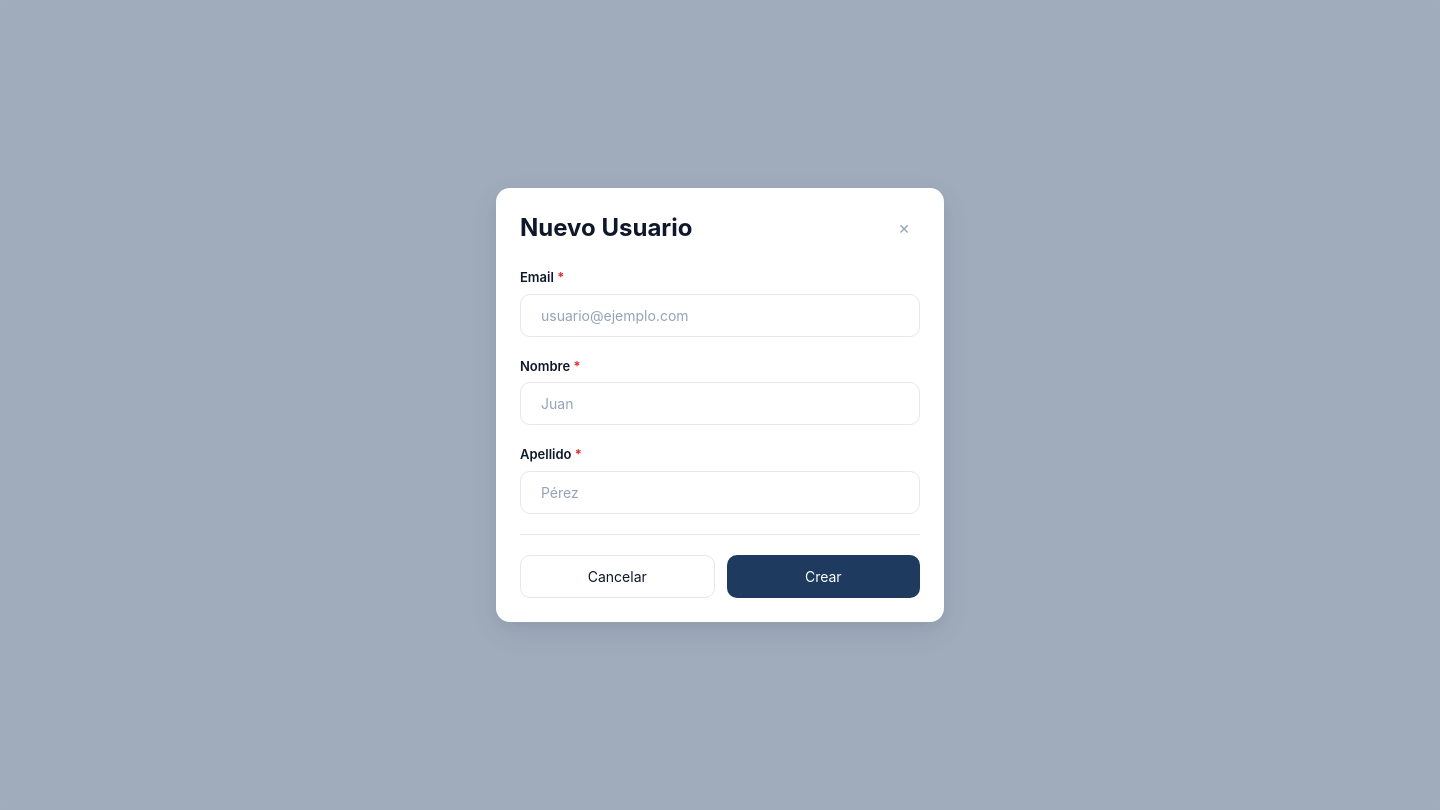
Test: UserForm › shows error when submit fails
Step 1. Type "ana@demo.com" into the field labelled "Email *" → coordinates (720, 315), box [520,294,920,337]
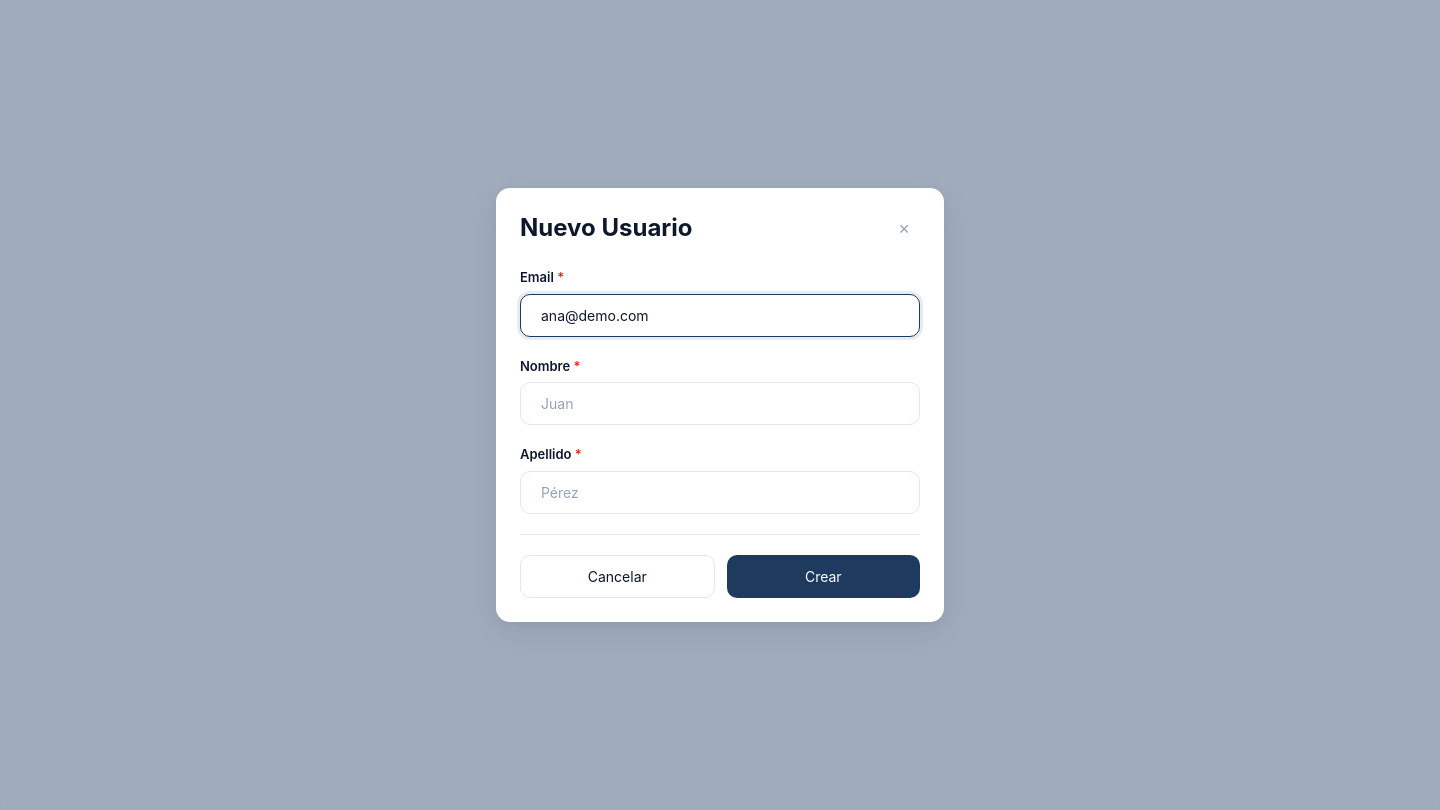
Step 2. Type "Ana" into the field labelled "Nombre *" → coordinates (720, 404), box [520,382,920,425]
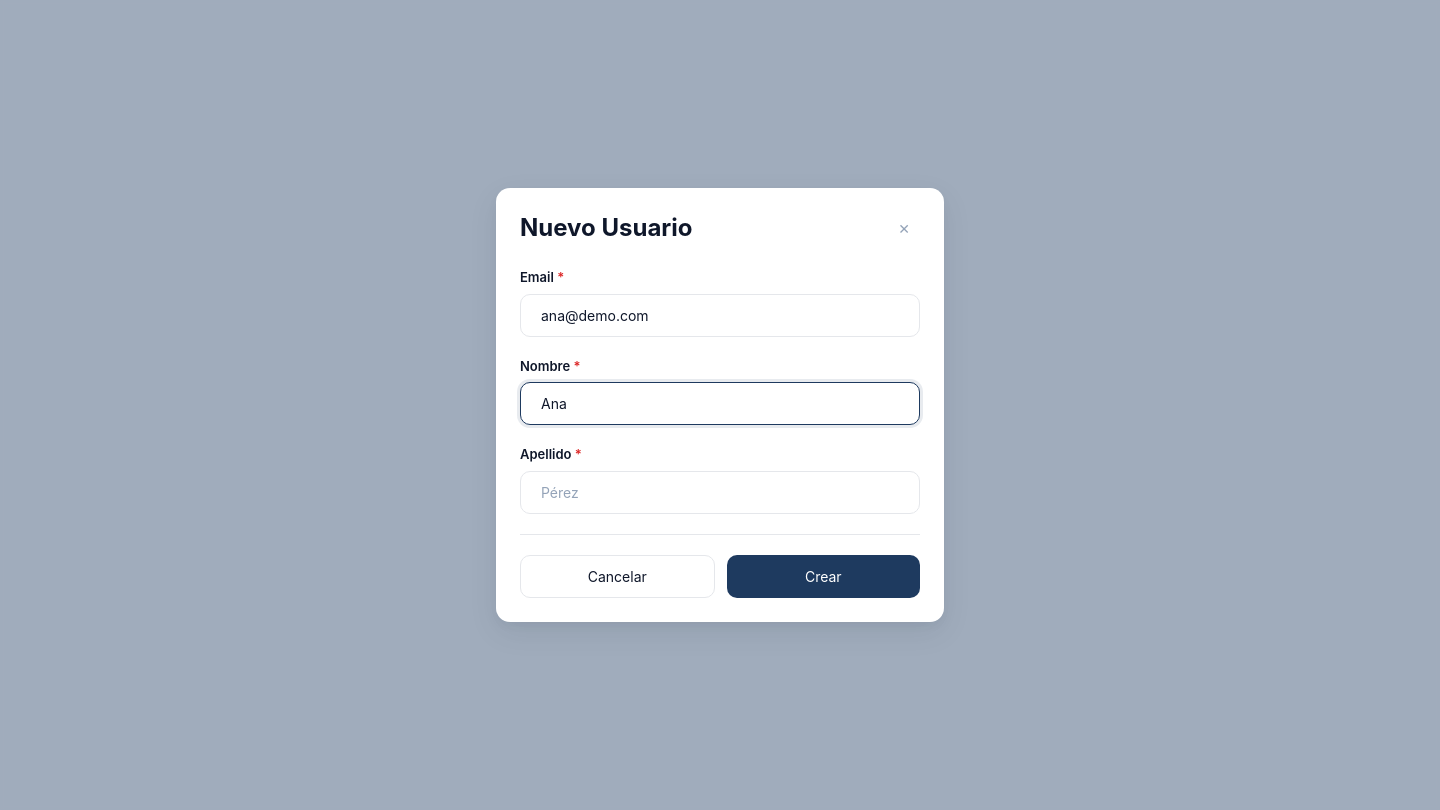
Step 3. Type "López" into the field labelled "Apellido *" → coordinates (720, 492), box [520,471,920,514]
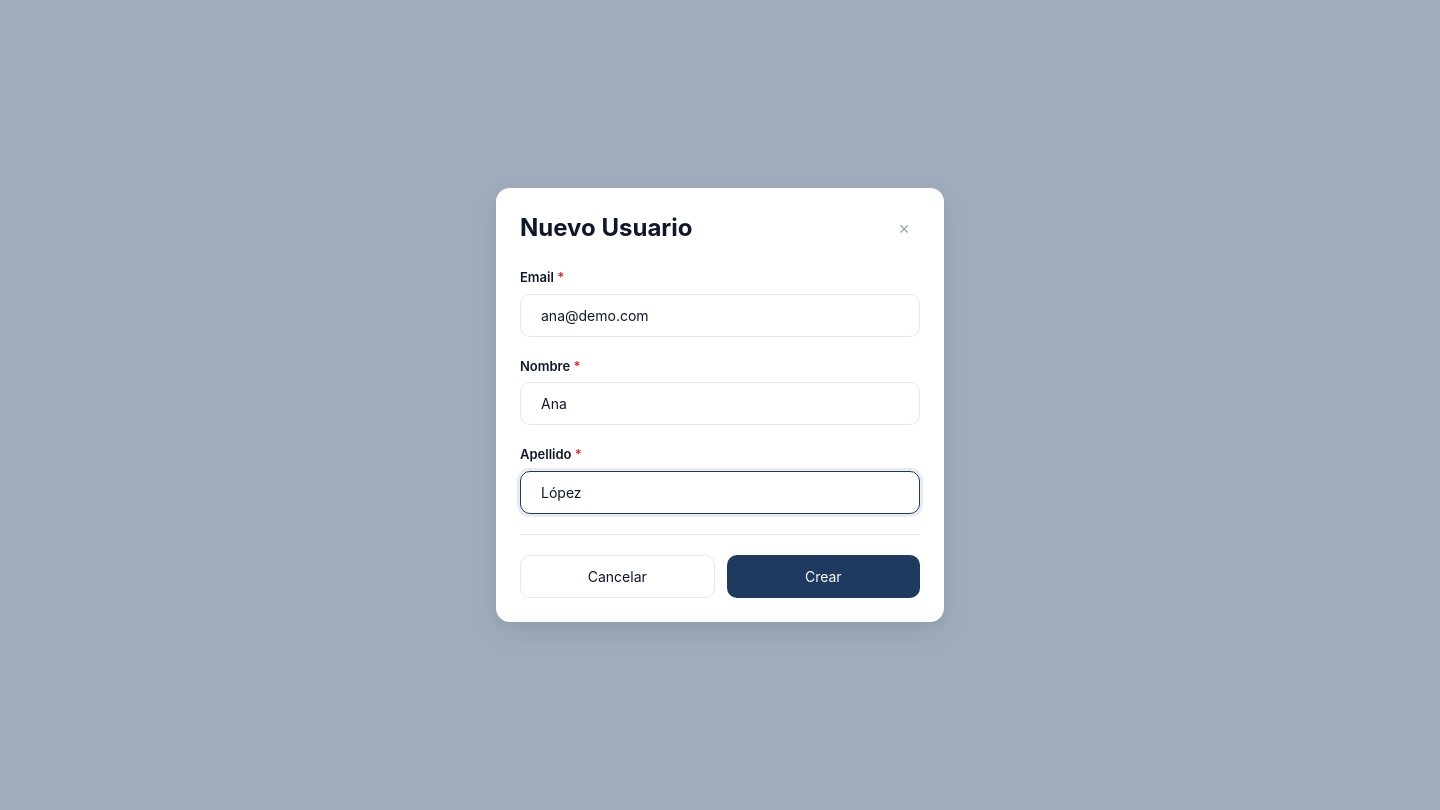
Step 4. Click the button "Crear" → coordinates (823, 576), box [727,555,920,598]
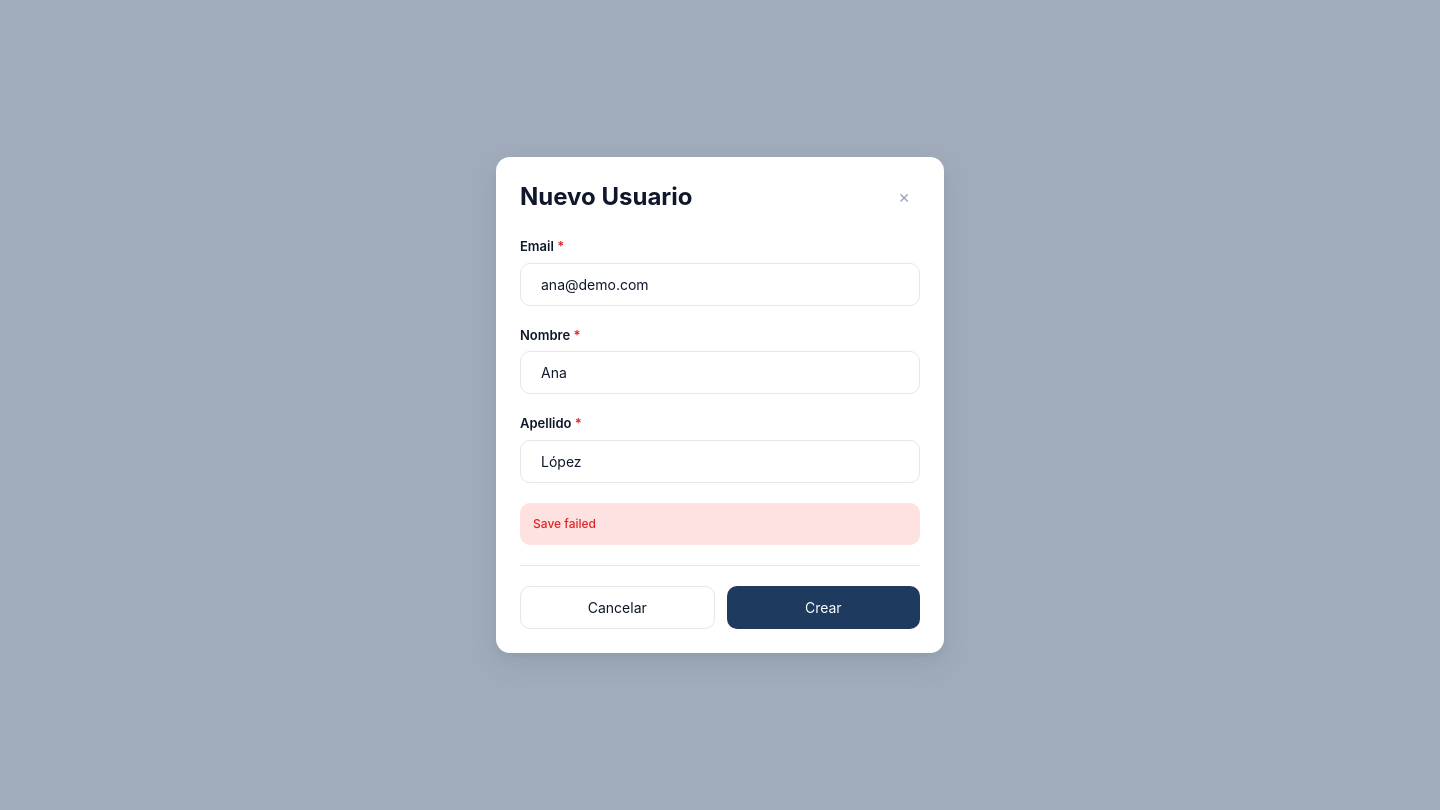
Result: the text "Save failed" is shown at [520,503,920,545]
